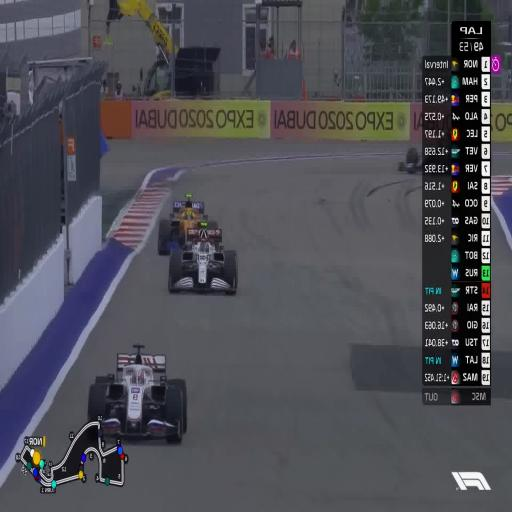f1_car: (88, 345, 187, 442), (169, 225, 238, 293), (158, 193, 217, 254), (398, 147, 432, 173)
